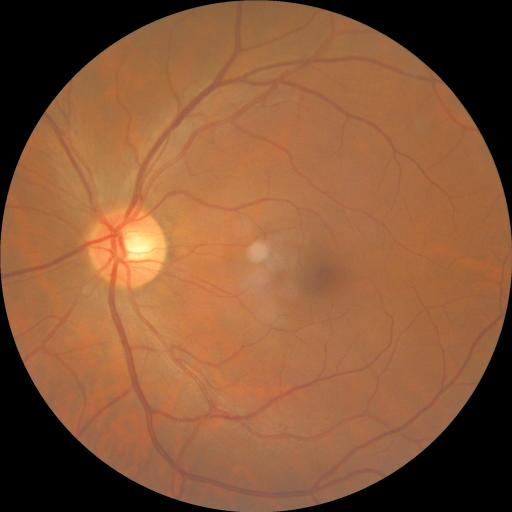Optic Cup: (119, 228, 155, 263)
Optic Disc: (86, 208, 167, 289)
